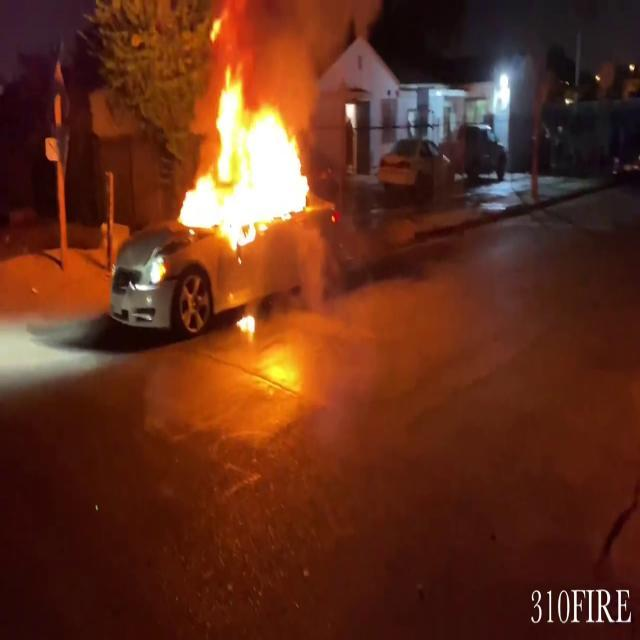Fire: (172, 51, 322, 248), (234, 304, 258, 342)
Smoke: (219, 1, 366, 102)
